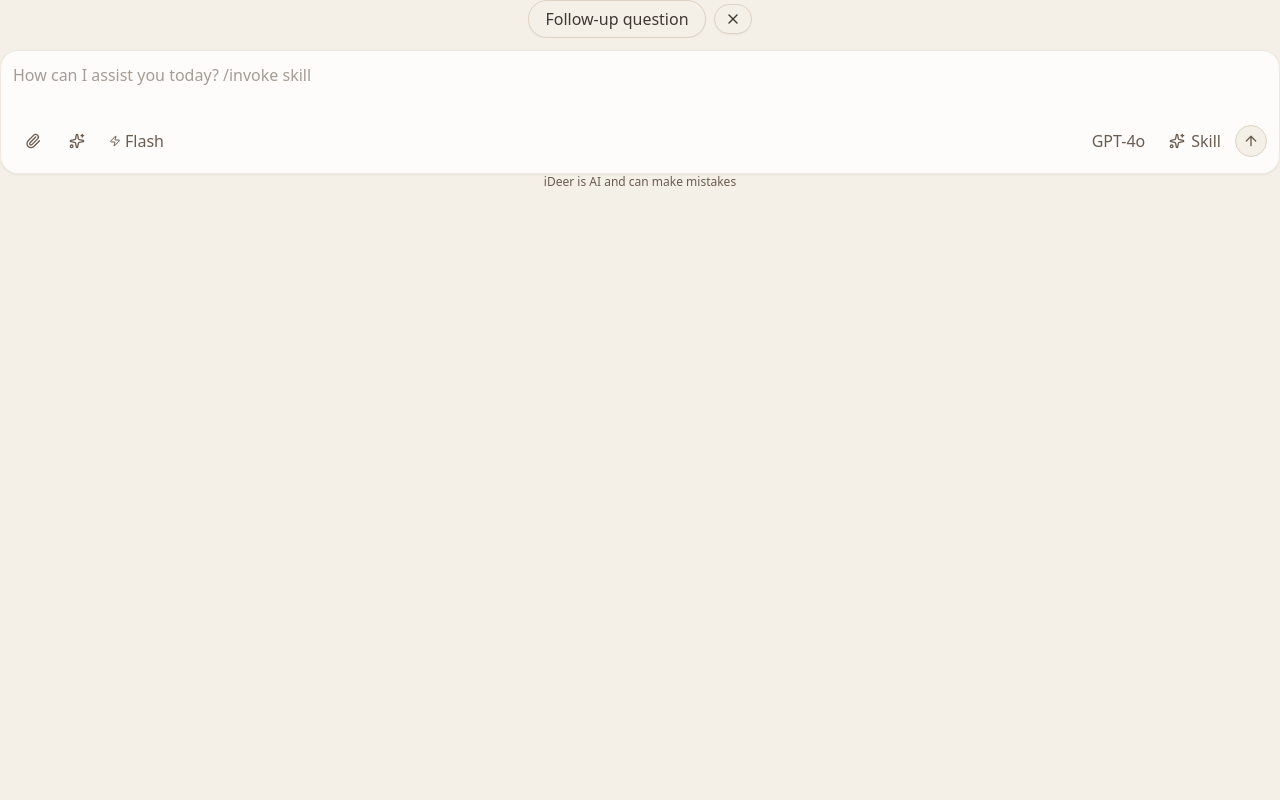
Test: InputBox › followup click behavior › shows confirmation dialog when clicking followup with existing input
The width and height of the screenshot is (1280, 800).
What coordinates should you click on to do the following:
click the button "Follow-up question"
I would click on:
 (617, 19)
Its box is [528,0,706,38].
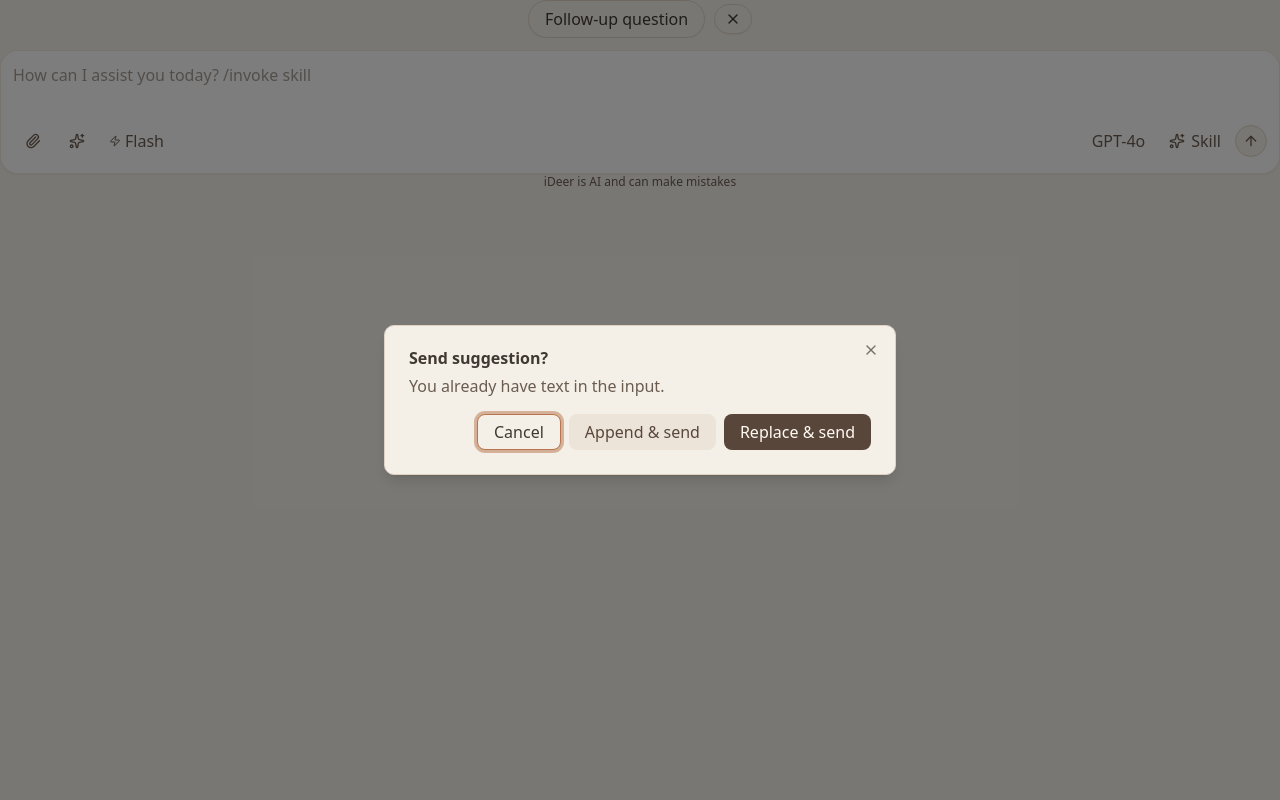
Now the heading "Send suggestion?" is shown, box [409,347,548,369]
Now the button "Append & send" is shown, box [569,414,716,450]
Now the button "Replace & send" is shown, box [724,414,871,450]
